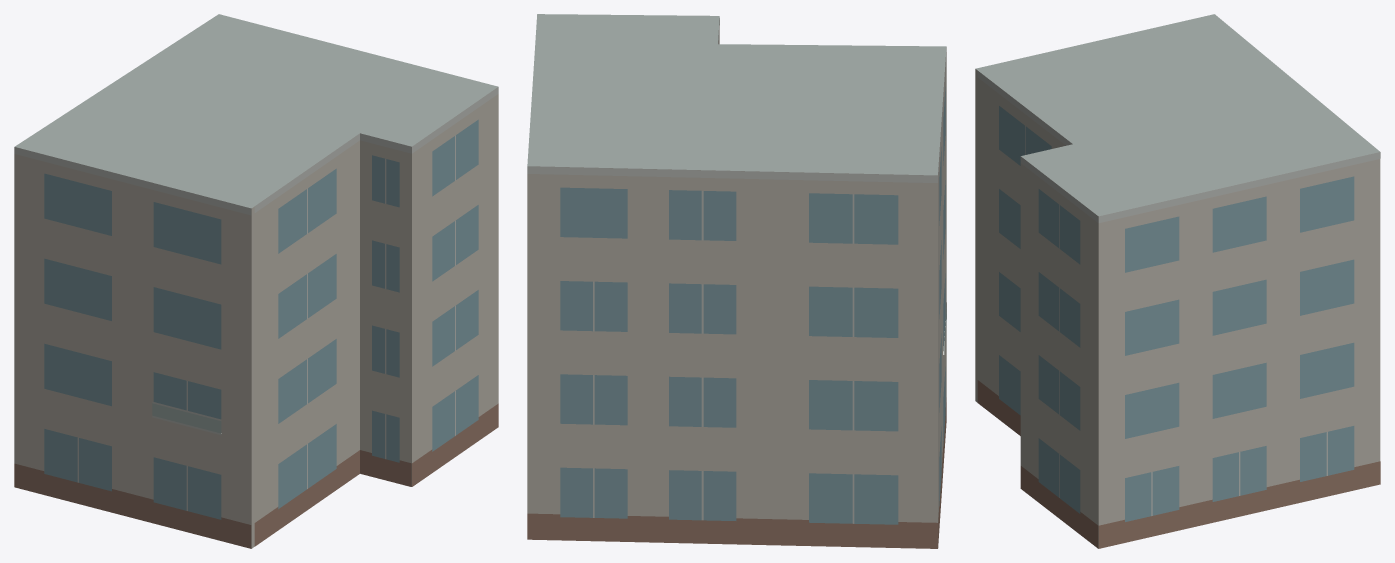
The model's file is survey-upis-32703247.glb.
The picture shows the model from 3 angles, left to right: view 1: azimuth 30°, elevation 25°; view 2: azimuth 150°, elevation 25°; view 3: azimuth 270°, elevation 25°; orthographic projection. The views are drawn at different scales.
Parts seen in each view (by area): view 1: survey-upis-32703247.tmp; view 2: survey-upis-32703247.tmp; view 3: survey-upis-32703247.tmp.
Boxes of the visible parts, x1=… form: survey-upis-32703247.tmp: x1=14, y1=14, x2=498, y2=548; survey-upis-32703247.tmp: x1=527, y1=14, x2=946, y2=548; survey-upis-32703247.tmp: x1=975, y1=14, x2=1380, y2=548.
Size of the model in its own units: 15.42 by 11.8 by 13.04.
